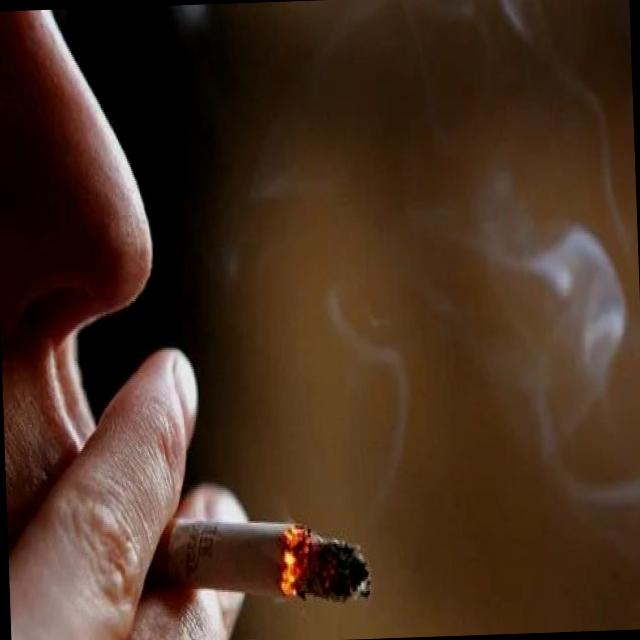smoke: (146, 504, 378, 612)
